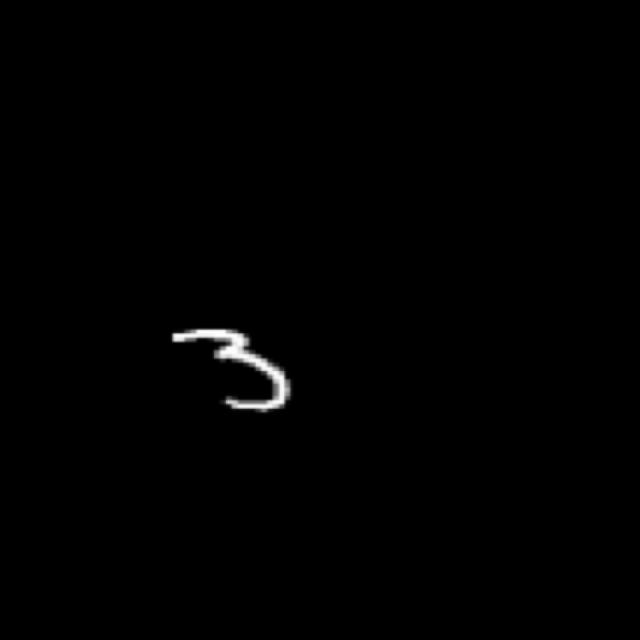three -3-: (162, 320, 306, 418)
